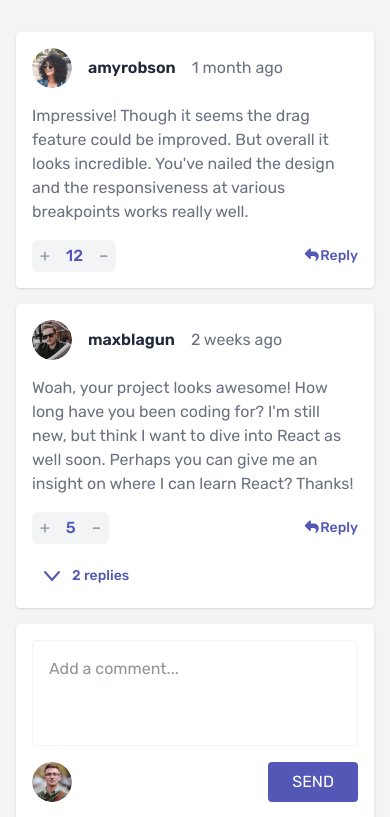
Test: CommentSection integration › should add a comment and render it
The width and height of the screenshot is (390, 817).
Type "This is a test comment" into the text box with placeholder "Add a comment...".
click(195, 693); type("This is a test comment")  # box x1=32 y1=640 x2=358 y2=746
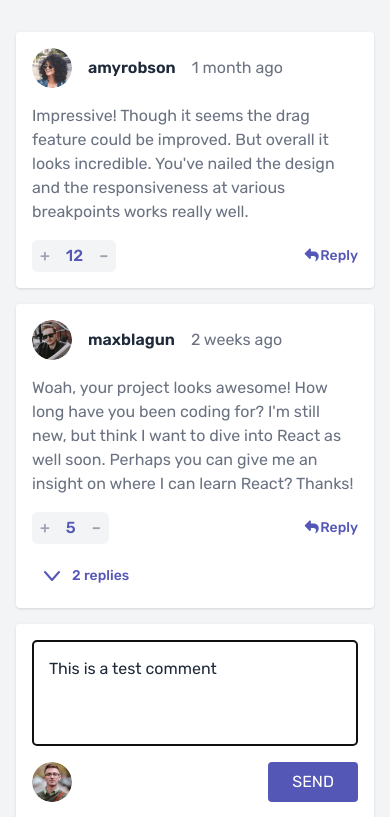
Click the button with test id "send-submit".
click(313, 782)  # box x1=268 y1=762 x2=358 y2=802
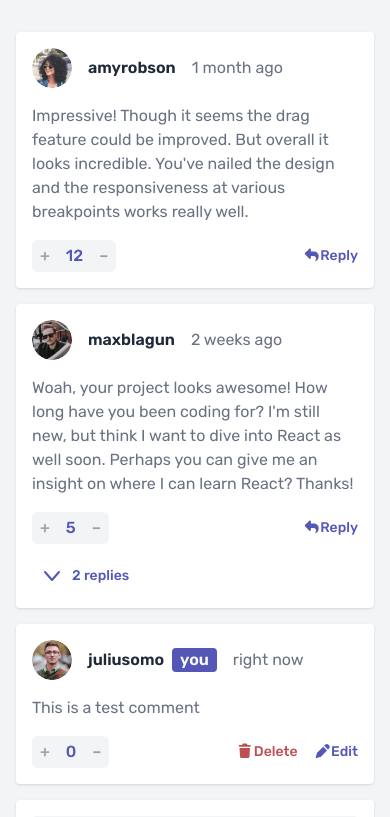
Now the text "This is a test comment" is shown, box x1=32 y1=698 x2=200 y2=717
